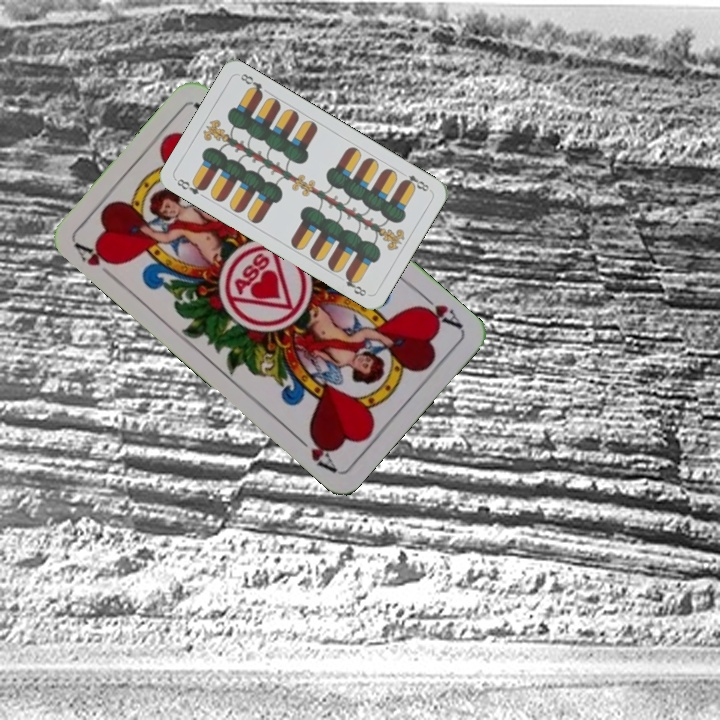E8: (398, 171, 433, 194), (173, 175, 209, 197)
HA: (71, 239, 122, 284), (413, 288, 465, 332)
